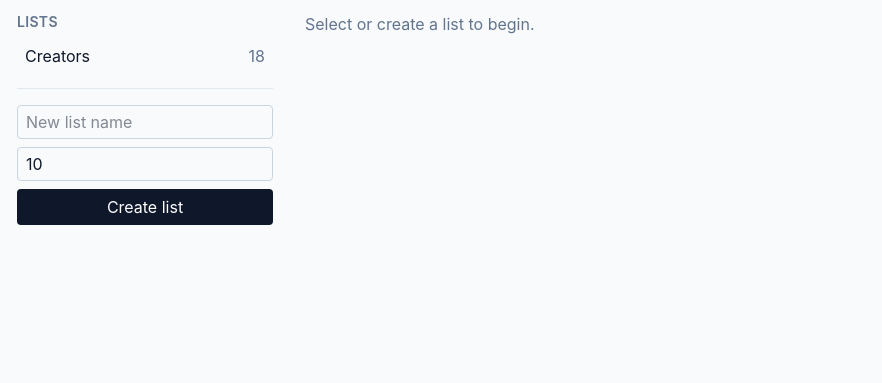
Test case: WaitingListsView › cancels an over-take without firing the mutation
The image size is (882, 383).
Step 1. Click the button "Creators 18" → (145, 56), box [17,40,273,72]
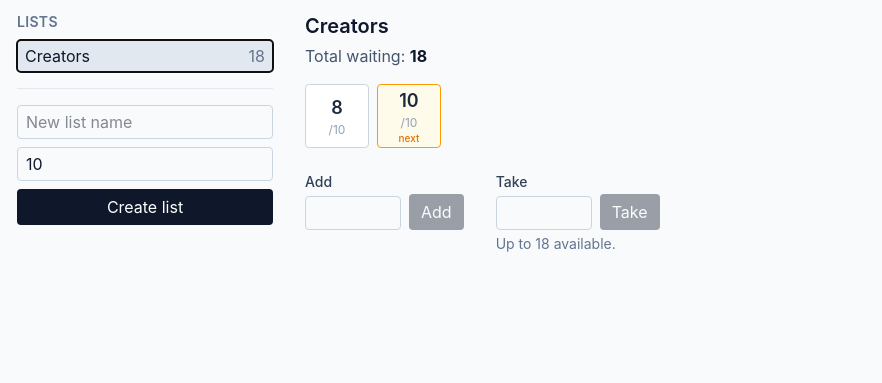
Step 2. Type "99" into the field labelled "Take" → (544, 213), box [496,196,592,230]
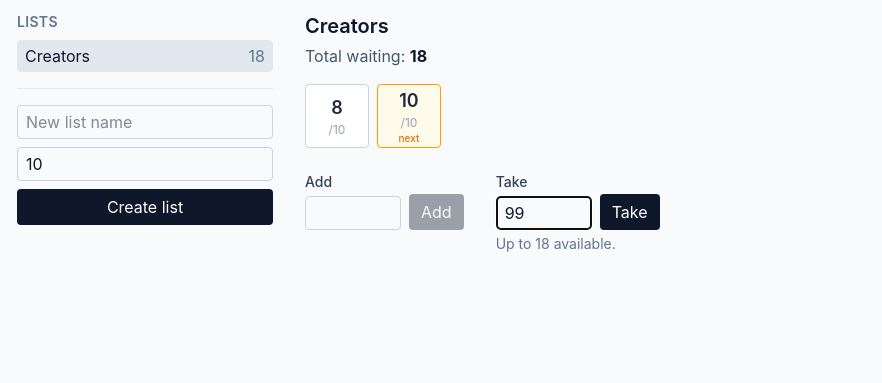
Step 3. Click the button "Take" → (630, 212), box [600,194,660,230]
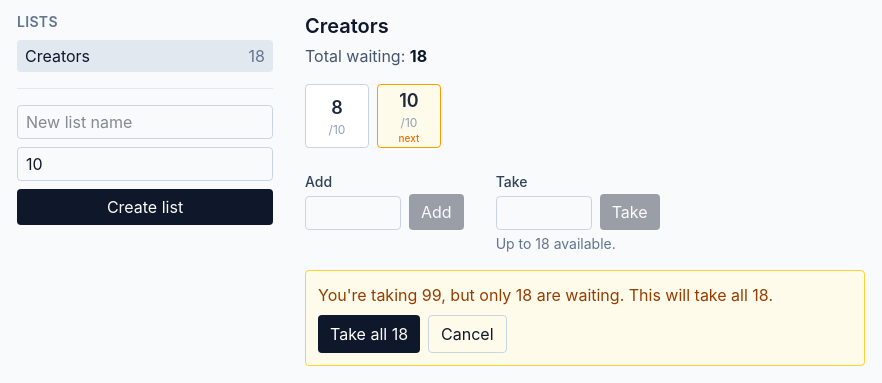
Step 4. Click the button "Cancel" → (467, 334), box [428,315,506,353]
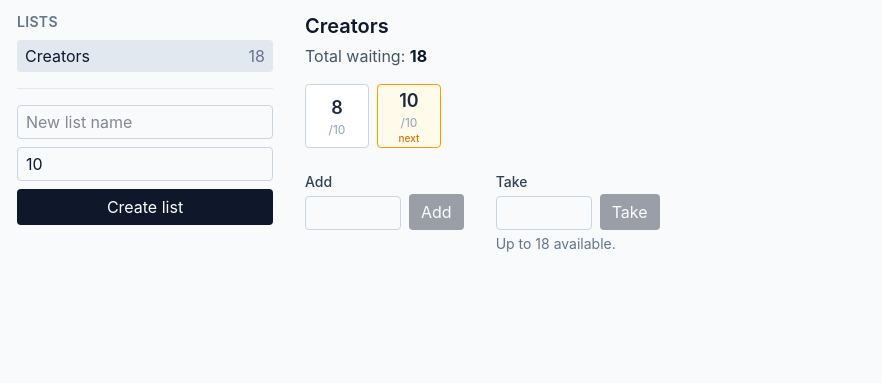
expect the text "only 18 are waiting" is gone: met
